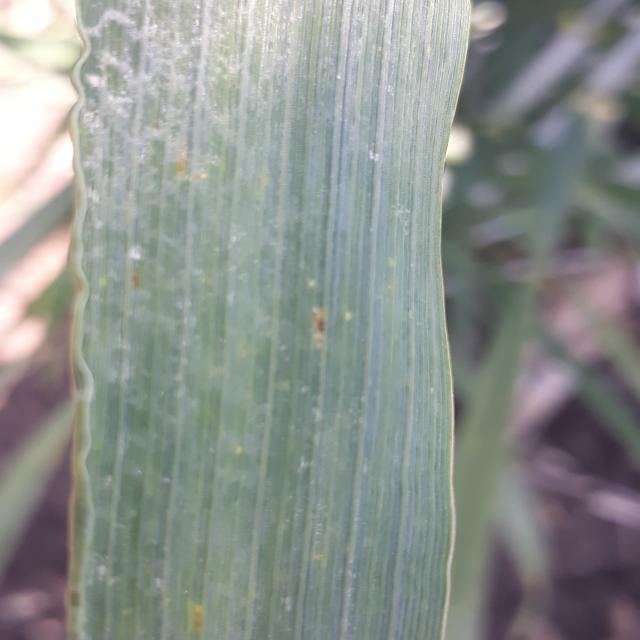orang_rust: (52, 0, 512, 640)
